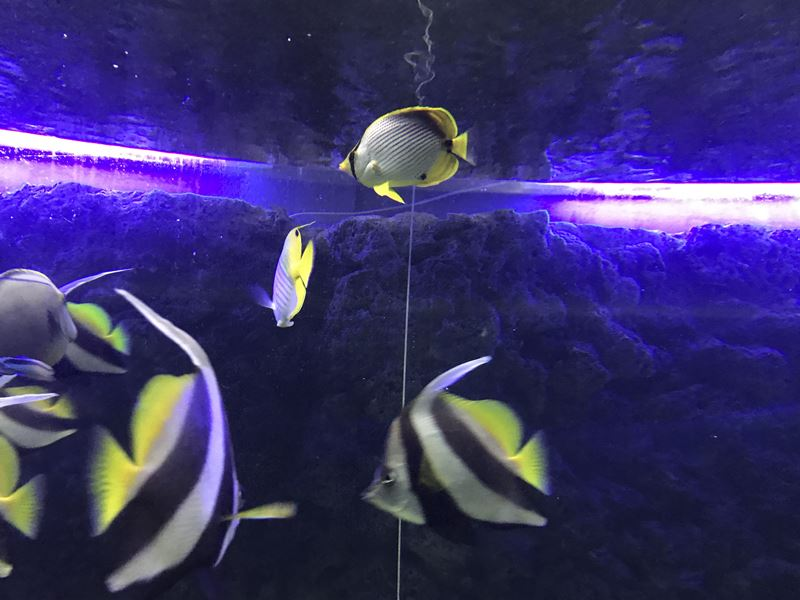Black-backed butterflyfish: (330, 98, 490, 213)
